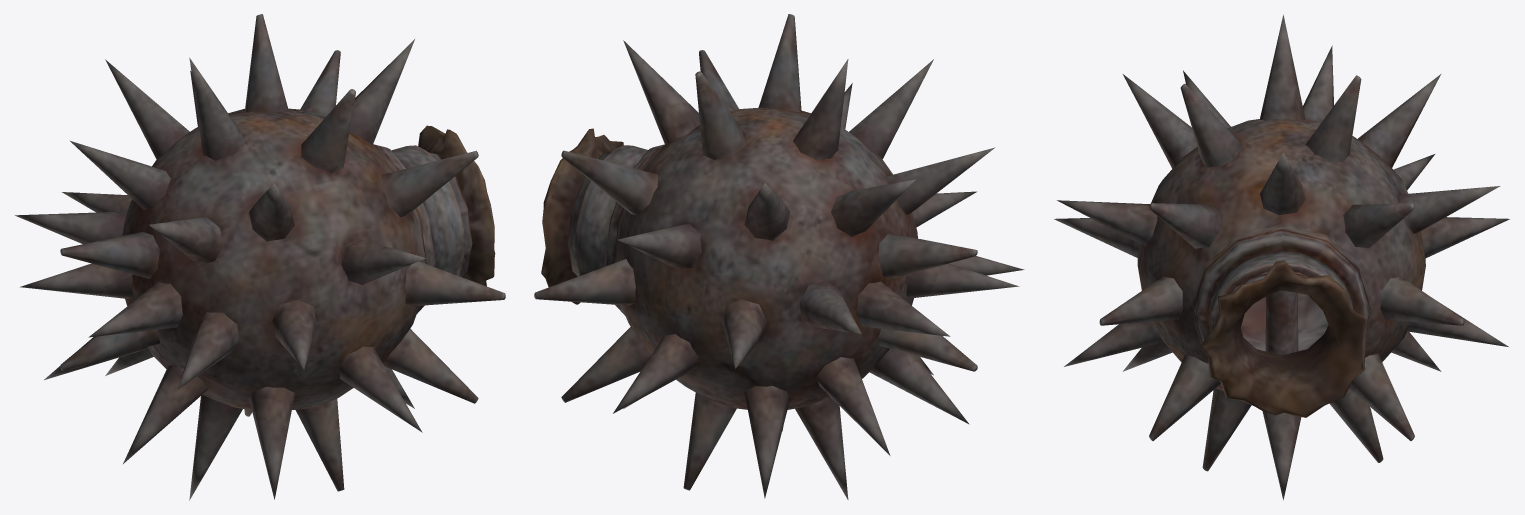
The model's file is weapon-wp_a_1166.glb.
The picture shows the model from 3 angles, left to right: view 1: azimuth 30°, elevation 25°; view 2: azimuth 150°, elevation 25°; view 3: azimuth 270°, elevation 25°; orthographic projection. The views are drawn at different scales.
Parts seen in each view (by area): view 1: wp_a_1166_mesh; view 2: wp_a_1166_mesh; view 3: wp_a_1166_mesh.
Boxes of the visible parts, <box> form: wp_a_1166_mesh: <box>15,14,505,500</box>; wp_a_1166_mesh: <box>534,14,1024,499</box>; wp_a_1166_mesh: <box>1054,14,1509,500</box>.
Size of the model in its own units: 0.3277 by 0.3408 by 0.3383.
Materials: 1 (1 with a texture image).
